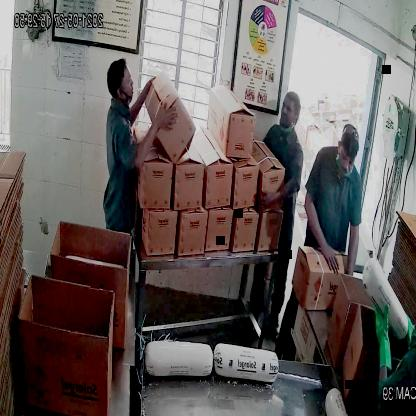no_goggles: (335, 147, 358, 169), (280, 99, 300, 119)
